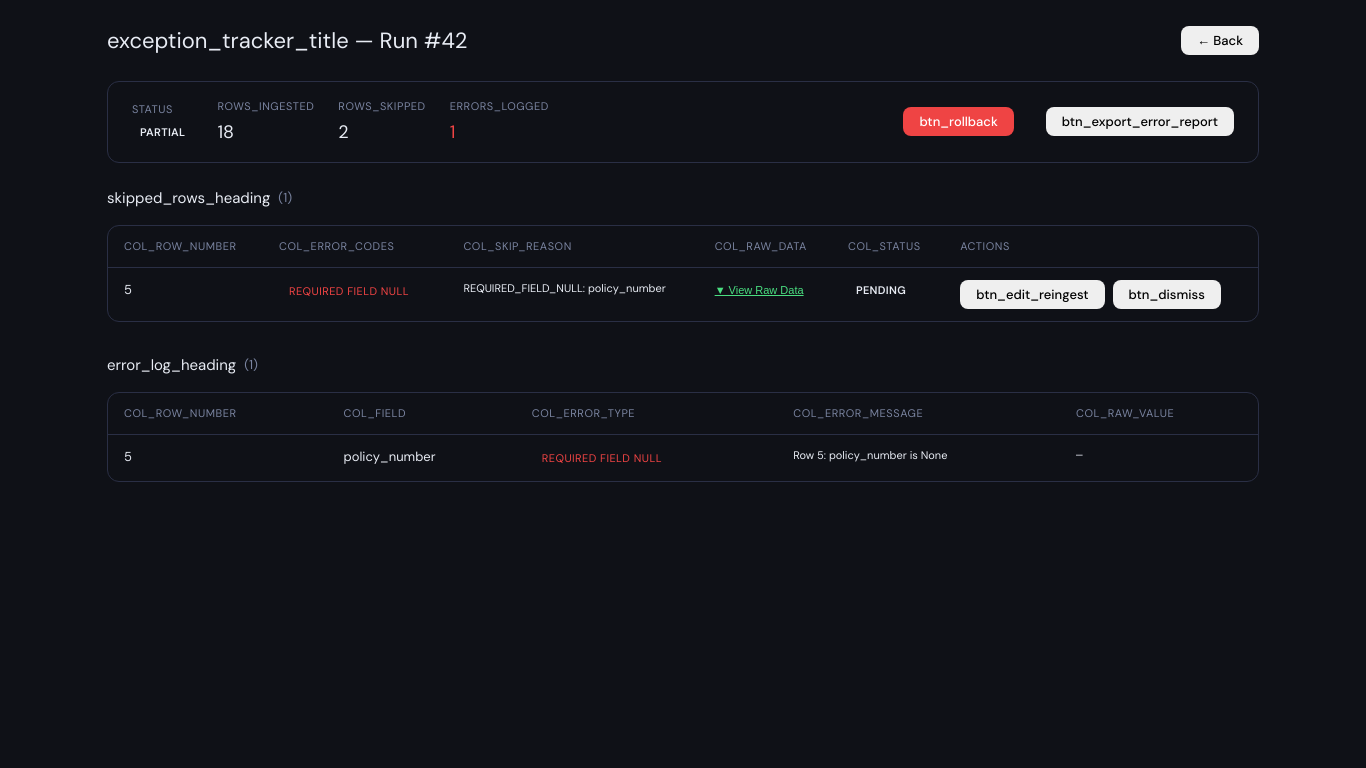
ExceptionTracker › Edit & Re-ingest button shows CorrectionEditor
Click the button with test id "exception-tracker__edit-reingest-btn": (1032, 294) [960,280,1105,308]
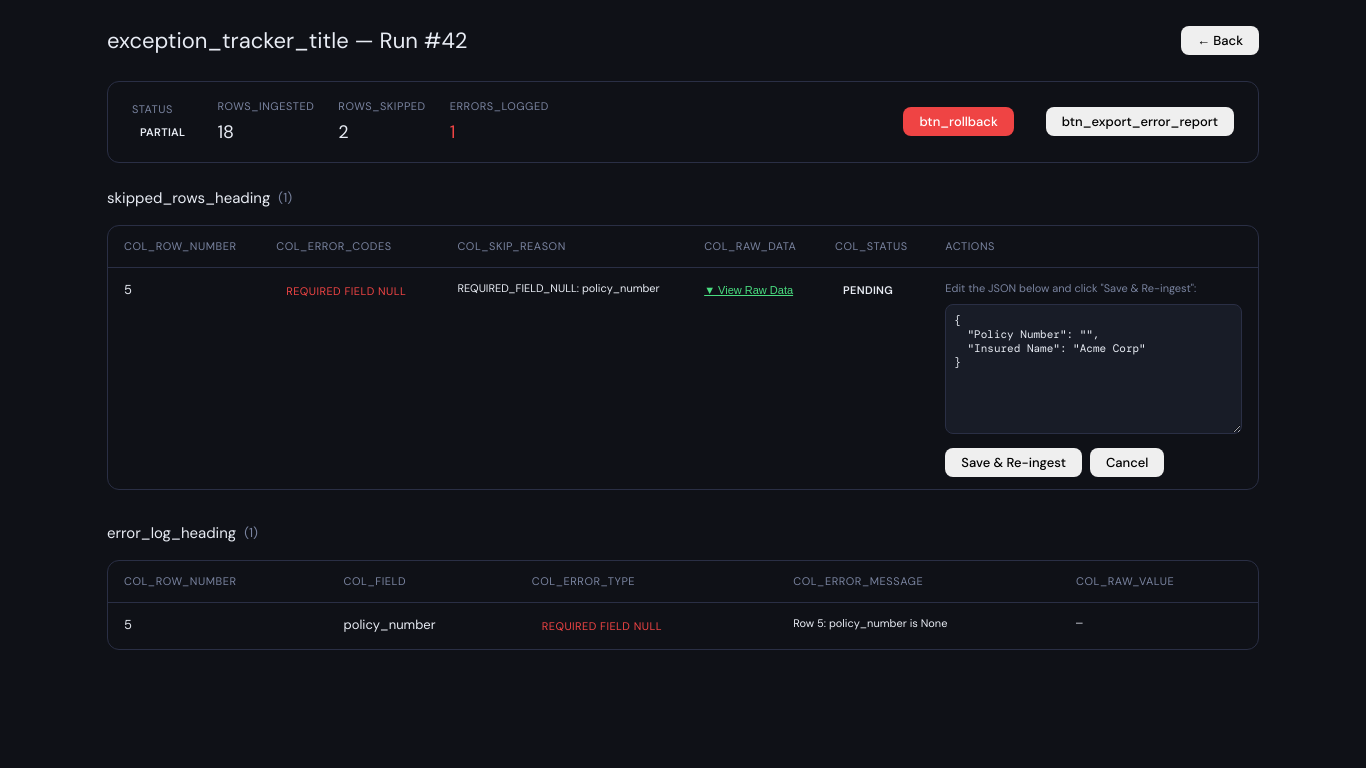
Now the element with test id "exception-tracker__correction-editor" is shown, box [945,280,1242,476]
